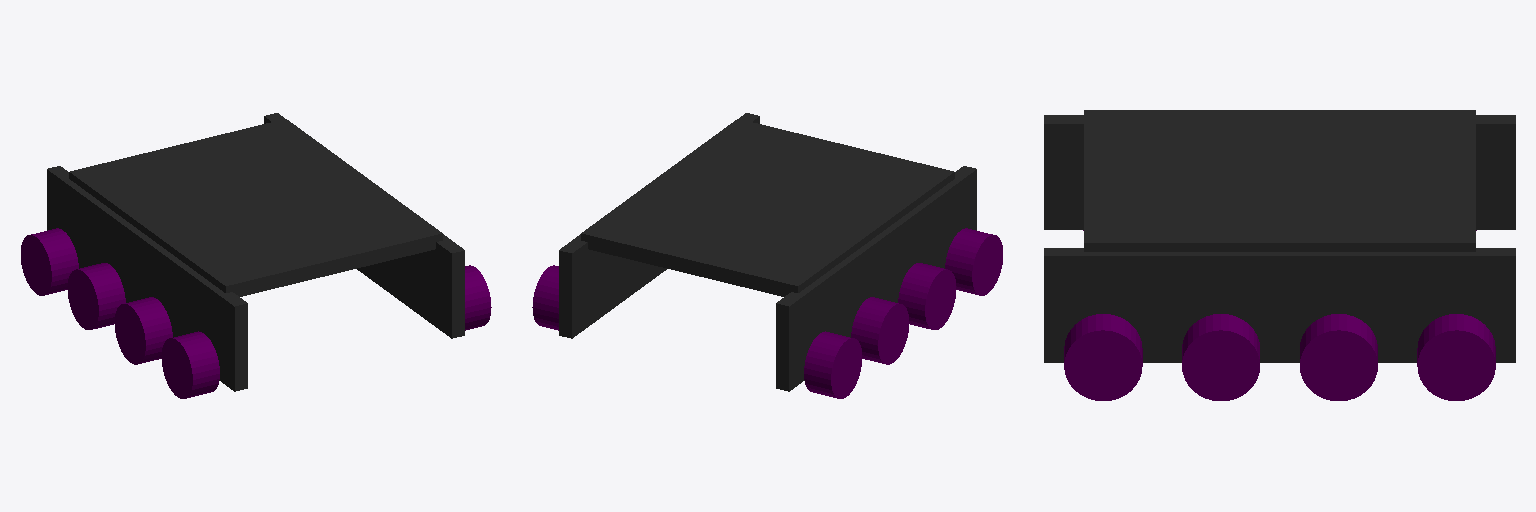
The robot description file, URDF, robot "vbot":
<?xml version="1.0"?>

<robot name="vbot">
    <material name="darkgray">
        <color rgba="0.2 0.2 0.2 1.0"/>
    </material>

    <material name="purple">
        <color rgba="0.4 0.0 0.4 1.0"/>
    </material>

    <link name="base_link">
        <inertial>
            <mass value="0.15"/>
            <inertia ixx="0.0" ixy="0.0" ixz="0.0" iyy="0.0" iyz="0.0" izz="0.0"/>
        </inertial>

        <visual>
            <origin xyz="0.0 0.0 0.0" rpy="0.0 0.0 0.0"/>
            <geometry>
                <box size="1.6 2.0 0.1"/>
            </geometry>
            <material name="darkgray"/>
        </visual>

        <collision>
            <origin xyz="0.0 0.0 0.0" rpy="0.0 0.0 0.0"/>
            <geometry>
                <box size="1.6 2.0 0.1"/>
            </geometry>
        </collision>
    </link>


    <link name="left_wheels_link">
        <inertial>
            <mass value="0.1"/>
            <inertia ixx="0.0" ixy="0.0" ixz="0.0" iyy="0.0" iyz="0.0" izz="0.0"/>
        </inertial>

        <visual>
            <geometry>
                <box size="0.1 2.4 0.6"/>
            </geometry>
            <origin xyz="0 0 0"/>
            <material name="darkgray"/>
        </visual>

        <collision>
            <geometry>
                <box size="0.1 2.4 0.6"/>
            </geometry>
            <origin xyz="0 0 0"/>
        </collision>
    </link>
    <joint name="base_to_right" type="fixed">
        <parent link="base_link"/>
        <child link="right_wheels_link"/>
        <origin xyz="0.8 0 -0.3"/>
    </joint>


    <link name="right_wheels_link">
        <inertial>
            <mass value="0.1"/>
            <inertia ixx="0.0" ixy="0.0" ixz="0.0" iyy="0.0" iyz="0.0" izz="0.0"/>
        </inertial>

        <visual>
            <geometry>
                <box size="0.1 2.4 0.6"/>
            </geometry>
            <origin xyz="0 0 0"/>
            <material name="darkgray"/>
        </visual>

        <collision>
            <geometry>
                <box size="0.1 2.4 0.6"/>
            </geometry>
            <origin xyz="0 0 0"/>
        </collision>
    </link>
    <joint name="base_to_left" type="fixed">
        <parent link="base_link"/>
        <child link="left_wheels_link"/>
        <origin xyz="-0.8 0 -0.3"/>
    </joint>

    <link name="rwheel1">
        <inertial>
            <origin xyz="0.0 0.0 0.0"/>
            <mass value="0.08"/>
            <inertia ixx="0.0" ixy="0.0" ixz="0.0" iyy="0.0" iyz="0.0" izz="0.0"/>
        </inertial>
        <visual>
            <origin xyz="0.0 0.0 0.0" rpy="0 1.57 0.0"/>
            <geometry>
                <cylinder radius="0.2" length="0.2"/>
            </geometry>
            <material name="purple"/>
        </visual>
        <collision>
            <origin xyz="0.0 0.0 0.0" rpy="0 1.57 0"/>
            <geometry>
                <cylinder radius="0.2" length="0.2"/>
            </geometry>
        </collision>
    </link>
    <joint name="rwheel1_joint" type="continuous">
        <origin xyz="0.2 0.9 -0.2"/>
        <parent link="right_wheels_link"/>
        <child link="rwheel1"/>
        <axis xyz="1.0 0.0 0.0"/>
    </joint>

    <link name="rwheel2">
        <inertial>
            <origin xyz="0.0 0.0 0.0"/>
            <mass value="0.08"/>
            <inertia ixx="0.0" ixy="0.0" ixz="0.0" iyy="0.0" iyz="0.0" izz="0.0"/>
        </inertial>
        <visual>
            <origin xyz="0.0 0.0 0.0" rpy="0 1.57 0.0"/>
            <geometry>
                <cylinder radius="0.2" length="0.2"/>
            </geometry>
            <material name="purple"/>
        </visual>
        <collision>
            <origin xyz="0.0 0.0 0.0" rpy="0 1.57 0"/>
            <geometry>
                <cylinder radius="0.2" length="0.2"/>
            </geometry>
        </collision>
    </link>
    <joint name="rwheel2_joint" type="continuous">
        <origin xyz="0.2 0.3 -0.2"/>
        <parent link="right_wheels_link"/>
        <child link="rwheel2"/>
        <axis xyz="1.0 0.0 0.0"/>
    </joint>

    <link name="rwheel3">
        <inertial>
            <origin xyz="0.0 0.0 0.0"/>
            <mass value="0.08"/>
            <inertia ixx="0.0" ixy="0.0" ixz="0.0" iyy="0.0" iyz="0.0" izz="0.0"/>
        </inertial>
        <visual>
            <origin xyz="0.0 0.0 0.0" rpy="0 1.57 0.0"/>
            <geometry>
                <cylinder radius="0.2" length="0.2"/>
            </geometry>
            <material name="purple"/>
        </visual>
        <collision>
            <origin xyz="0.0 0.0 0.0" rpy="0 1.57 0"/>
            <geometry>
                <cylinder radius="0.2" length="0.2"/>
            </geometry>
        </collision>
    </link>
    <joint name="rwheel3_joint" type="continuous">
        <origin xyz="0.2 -0.3 -0.2"/>
        <parent link="right_wheels_link"/>
        <child link="rwheel3"/>
        <axis xyz="1.0 0.0 0.0"/>
    </joint>

    <link name="rwheel4">
        <inertial>
            <origin xyz="0.0 0.0 0.0"/>
            <mass value="0.08"/>
            <inertia ixx="0.0" ixy="0.0" ixz="0.0" iyy="0.0" iyz="0.0" izz="0.0"/>
        </inertial>
        <visual>
            <origin xyz="0.0 0.0 0.0" rpy="0 1.57 0.0"/>
            <geometry>
                <cylinder radius="0.2" length="0.2"/>
            </geometry>
            <material name="purple"/>
        </visual>
        <collision>
            <origin xyz="0.0 0.0 0.0" rpy="0 1.57 0"/>
            <geometry>
                <cylinder radius="0.2" length="0.2"/>
            </geometry>
        </collision>
    </link>
    <joint name="rwheel4_joint" type="continuous">
        <origin xyz="0.2 -0.9 -0.2"/>
        <parent link="right_wheels_link"/>
        <child link="rwheel4"/>
        <axis xyz="1.0 0.0 0.0"/>
    </joint>


    <link name="lwheel1">
        <inertial>
            <origin xyz="0.0 0.0 0.0"/>
            <mass value="0.08"/>
            <inertia ixx="0.0" ixy="0.0" ixz="0.0" iyy="0.0" iyz="0.0" izz="0.0"/>
        </inertial>
        <visual>
            <origin xyz="0.0 0.0 0.0" rpy="0 1.57 0.0"/>
            <geometry>
                <cylinder radius="0.2" length="0.2"/>
            </geometry>
            <material name="purple"/>
        </visual>
        <collision>
            <origin xyz="0.0 0.0 0.0" rpy="0 1.57 0"/>
            <geometry>
                <cylinder radius="0.2" length="0.2"/>
            </geometry>
        </collision>
    </link>
    <joint name="lwheel1_joint" type="continuous">
        <origin xyz="-0.2 0.9 -0.2"/>
        <parent link="left_wheels_link"/>
        <child link="lwheel1"/>
        <axis xyz="1.0 0.0 0.0"/>
    </joint>

    <link name="lwheel2">
        <inertial>
            <origin xyz="0.0 0.0 0.0"/>
            <mass value="0.08"/>
            <inertia ixx="0.0" ixy="0.0" ixz="0.0" iyy="0.0" iyz="0.0" izz="0.0"/>
        </inertial>
        <visual>
            <origin xyz="0.0 0.0 0.0" rpy="0 1.57 0.0"/>
            <geometry>
                <cylinder radius="0.2" length="0.2"/>
            </geometry>
            <material name="purple"/>
        </visual>
        <collision>
            <origin xyz="0.0 0.0 0.0" rpy="0 1.57 0"/>
            <geometry>
                <cylinder radius="0.2" length="0.2"/>
            </geometry>
        </collision>
    </link>
    <joint name="lwheel2_joint" type="continuous">
        <origin xyz="-0.2 0.3 -0.2"/>
        <parent link="left_wheels_link"/>
        <child link="lwheel2"/>
        <axis xyz="1.0 0.0 0.0"/>
    </joint>

    <link name="lwheel3">
        <inertial>
            <origin xyz="0.0 0.0 0.0"/>
            <mass value="0.08"/>
            <inertia ixx="0.0" ixy="0.0" ixz="0.0" iyy="0.0" iyz="0.0" izz="0.0"/>
        </inertial>
        <visual>
            <origin xyz="0.0 0.0 0.0" rpy="0 1.57 0.0"/>
            <geometry>
                <cylinder radius="0.2" length="0.2"/>
            </geometry>
            <material name="purple"/>
        </visual>
        <collision>
            <origin xyz="0.0 0.0 0.0" rpy="0 1.57 0"/>
            <geometry>
                <cylinder radius="0.2" length="0.2"/>
            </geometry>
        </collision>
    </link>
    <joint name="lwheel3_joint" type="continuous">
        <origin xyz="-0.2 -0.3 -0.2"/>
        <parent link="left_wheels_link"/>
        <child link="lwheel3"/>
        <axis xyz="1.0 0.0 0.0"/>
    </joint>

    <link name="lwheel4">
        <inertial>
            <origin xyz="0.0 0.0 0.0"/>
            <mass value="0.08"/>
            <inertia ixx="0.0" ixy="0.0" ixz="0.0" iyy="0.0" iyz="0.0" izz="0.0"/>
        </inertial>
        <visual>
            <origin xyz="0.0 0.0 0.0" rpy="0 1.57 0.0"/>
            <geometry>
                <cylinder radius="0.2" length="0.2"/>
            </geometry>
            <material name="purple"/>
        </visual>
        <collision>
            <origin xyz="0.0 0.0 0.0" rpy="0 1.57 0"/>
            <geometry>
                <cylinder radius="0.2" length="0.2"/>
            </geometry>
        </collision>
    </link>
    <joint name="lwheel4_joint" type="continuous">
        <origin xyz="-0.2 -0.9 -0.2"/>
        <parent link="left_wheels_link"/>
        <child link="lwheel4"/>
        <axis xyz="1.0 0.0 0.0"/>
    </joint>
</robot>

--- What the picture shows (computed from the rendered views, not written in the file) ---
The picture shows the robot from 3 angles, left to right: view 1: azimuth 30°, elevation 25°; view 2: azimuth 150°, elevation 25°; view 3: azimuth 270°, elevation 25°; orthographic projection.
Model vbot with 11 links and 10 joints (8 continuous, 2 fixed), rooted at base_link, posed all joints at 0.
Visible links, largest first — view 1: base_link, left_wheels_link, right_wheels_link, lwheel4, lwheel1, lwheel2, lwheel3, rwheel4; view 2: base_link, left_wheels_link, right_wheels_link, lwheel1, lwheel3, lwheel4, lwheel2, rwheel1; view 3: base_link, right_wheels_link, left_wheels_link, rwheel1, rwheel4, rwheel2, rwheel3.
Link boxes in pixels (box(x1,y1,x2,y2)): base_link: box(69, 119, 442, 296); left_wheels_link: box(47, 166, 247, 391); right_wheels_link: box(264, 113, 464, 338); lwheel4: box(162, 331, 219, 398); lwheel1: box(21, 228, 78, 295); lwheel2: box(68, 263, 125, 329); lwheel3: box(115, 297, 172, 364); rwheel4: box(465, 265, 491, 330); base_link: box(581, 119, 954, 296); left_wheels_link: box(776, 166, 976, 391); right_wheels_link: box(559, 113, 759, 338); lwheel1: box(804, 331, 861, 398); lwheel3: box(898, 263, 955, 329); lwheel4: box(945, 228, 1002, 295); lwheel2: box(851, 297, 908, 364); rwheel1: box(532, 265, 558, 330); base_link: box(1084, 110, 1475, 251); right_wheels_link: box(1044, 248, 1515, 362); left_wheels_link: box(1044, 115, 1515, 229); rwheel1: box(1417, 314, 1495, 400); rwheel4: box(1064, 314, 1142, 400); rwheel2: box(1300, 314, 1377, 400); rwheel3: box(1182, 314, 1259, 400).
Size in the robot's own frame: 2.2 by 2.4 by 0.7501 metres.
Geometry: primitives only (box / cylinder / sphere), no mesh files.
